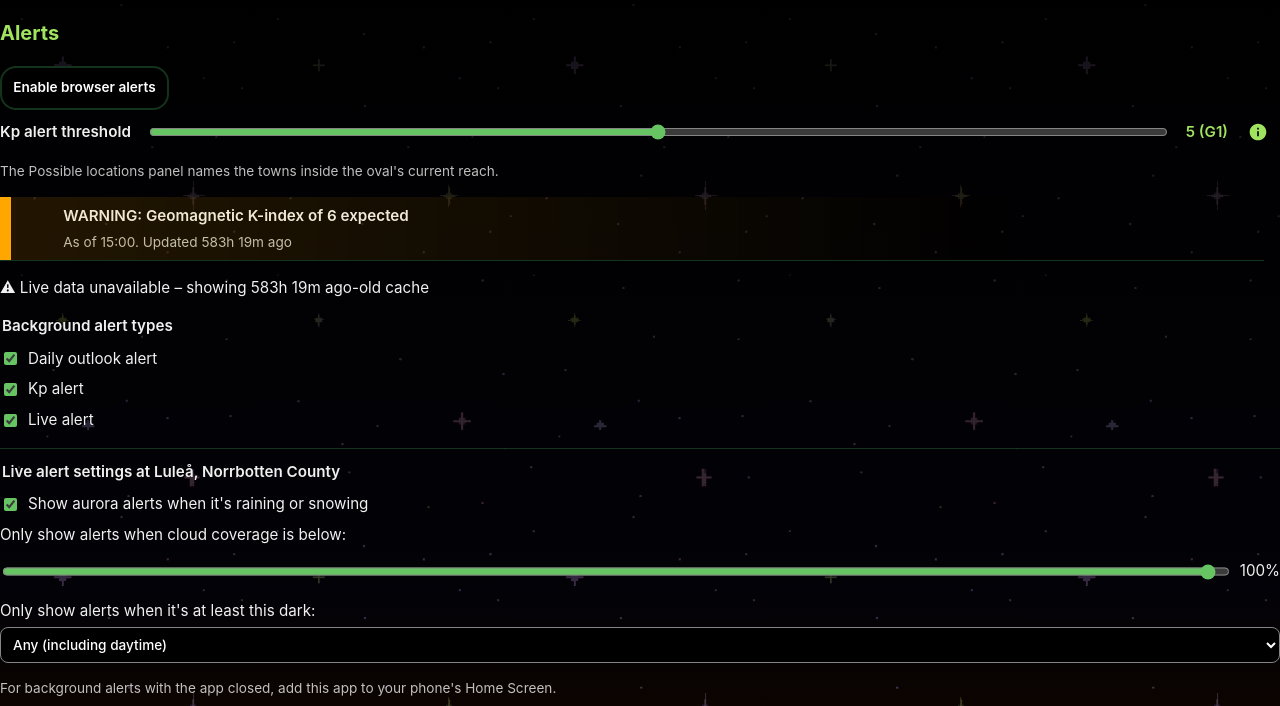
Alerts (ticket 02) › asks for permission on tap and notifies for unseen matches
The image size is (1280, 706).
Click the button "Enable browser alerts": x=84, y=88 [0, 66, 169, 110]
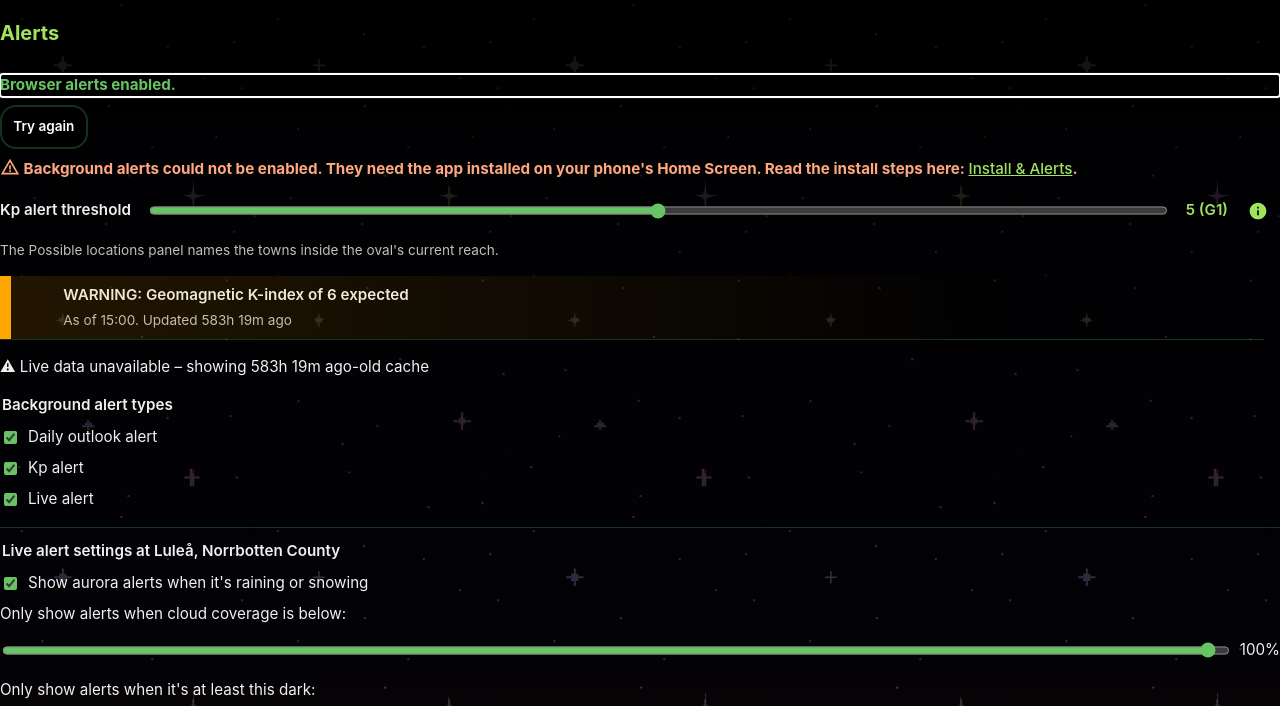
Now the text "Browser alerts enabled." is shown, box [0, 75, 176, 94]
